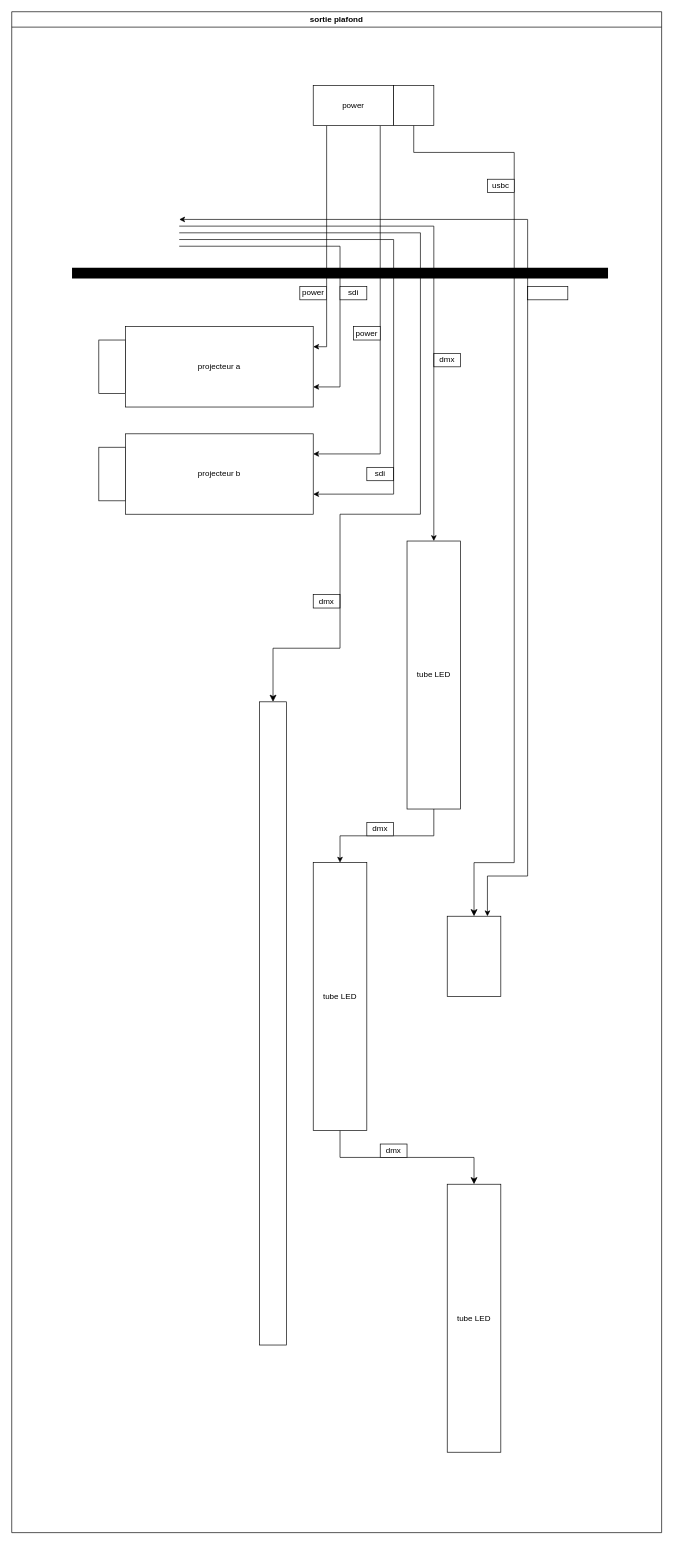
Some shapes in this 673 by 1544 pixel diagram are drawn without their labels. The centre of each missing label's shape, as x and y in pixels:
"bande LED" goes at [272,1023].
"bloc murale usb" goes at [413,105].
"ethernet" goes at [547,293].
"module valve" goes at [474,956].
